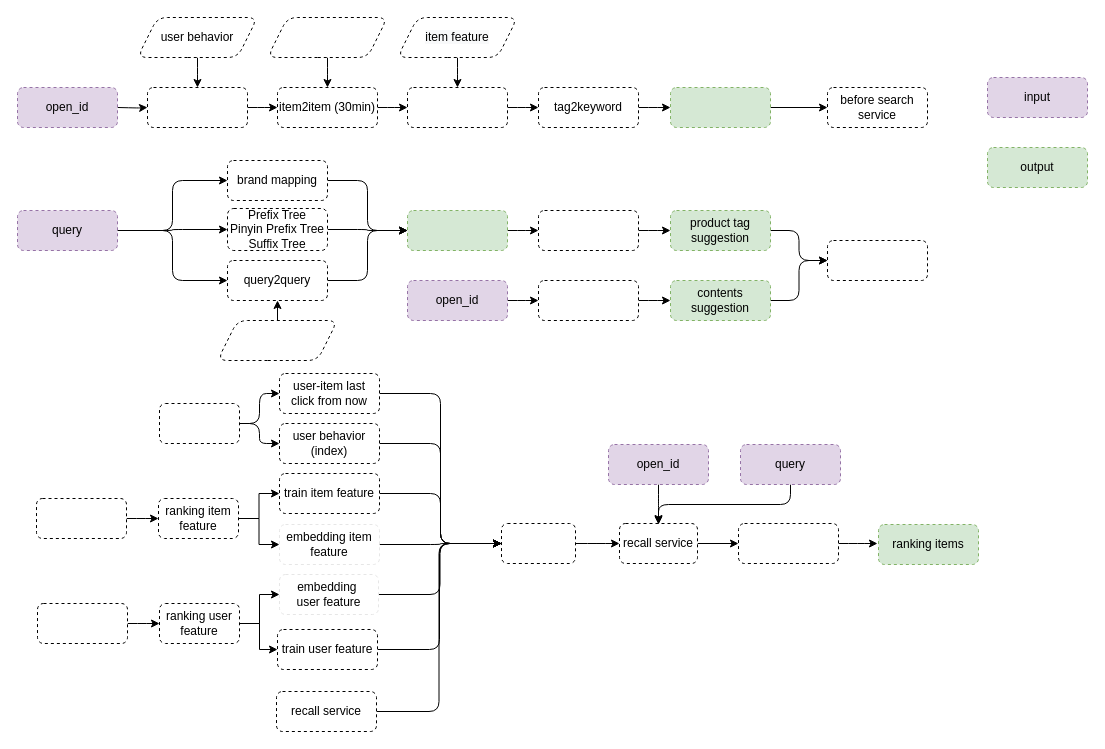
Image size: 1105x749. Some labels were removed from this diagram. The shapes that lost their labels are listed below. From the top down, each one's centre as x and y in pixels, then its label:
At (x=327, y=37): "item embedding".
At (x=197, y=107): "user2item (23min)".
At (x=457, y=107): "item2tag".
At (x=720, y=107): "user2keywords".
At (x=457, y=230): "keyword suggsetion".
At (x=588, y=230): "keyword2tag".
At (x=877, y=260): "during search service".
At (x=588, y=300): "user2tag".
At (x=277, y=340): "query embedding".
At (x=199, y=423): "search after click".
At (x=81, y=518): "raw item feature".
At (x=538, y=543): "CTR model".
At (x=788, y=543): "ranking service".
At (x=82, y=623): "raw user feature".
